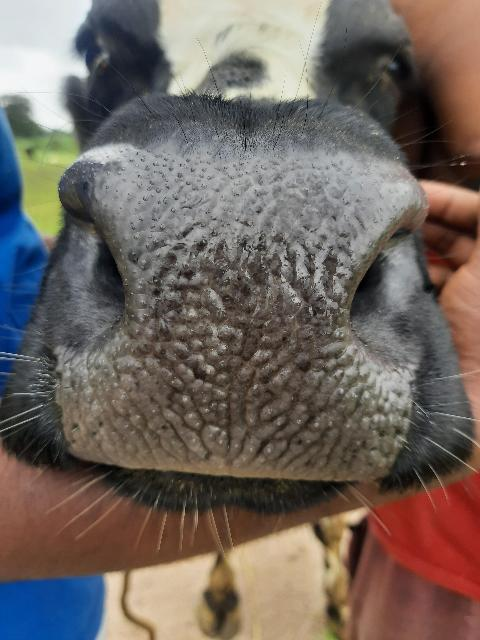Muzzle: (64, 152, 410, 470)
